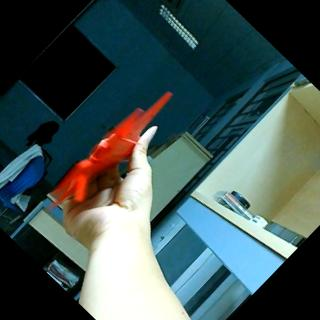Jet: (42, 80, 180, 221)
